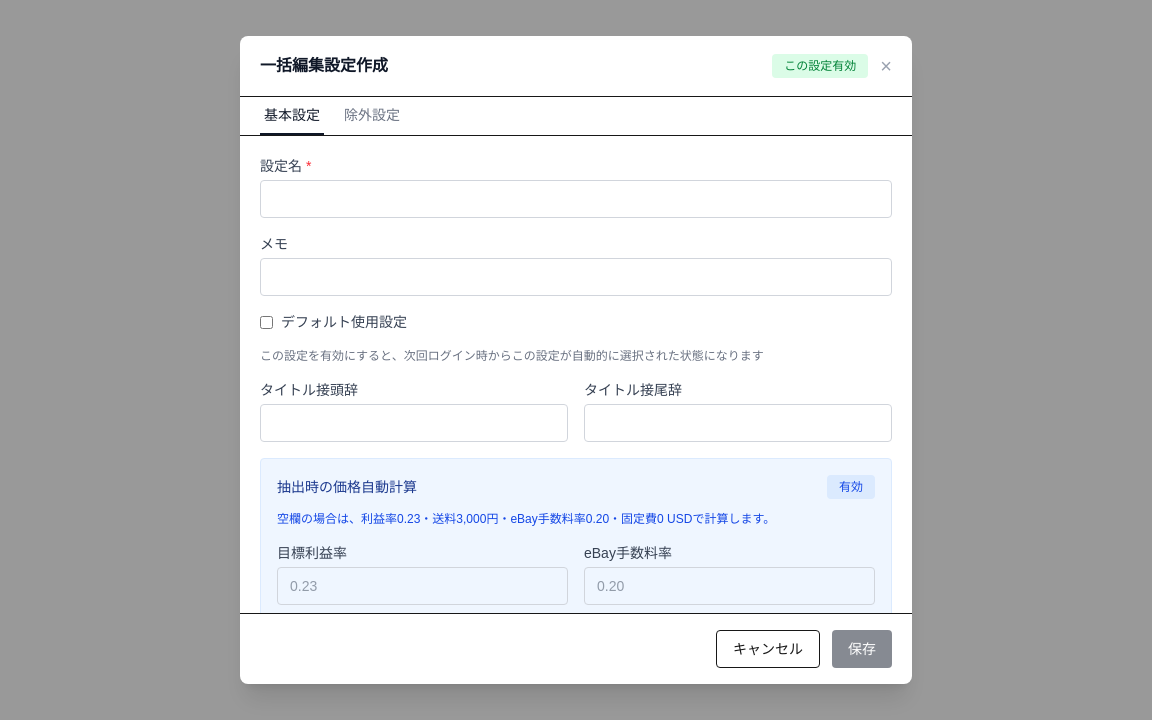
BulkEditSettingModal › 未保存(id無し)の設定では専用リストの代わりに保存を促す案内を表示する
The width and height of the screenshot is (1152, 720).
What coordinates should you click on to do the following:
click the button "除外設定"
I would click on:
 (372, 116)
Its box is [340, 97, 404, 135].
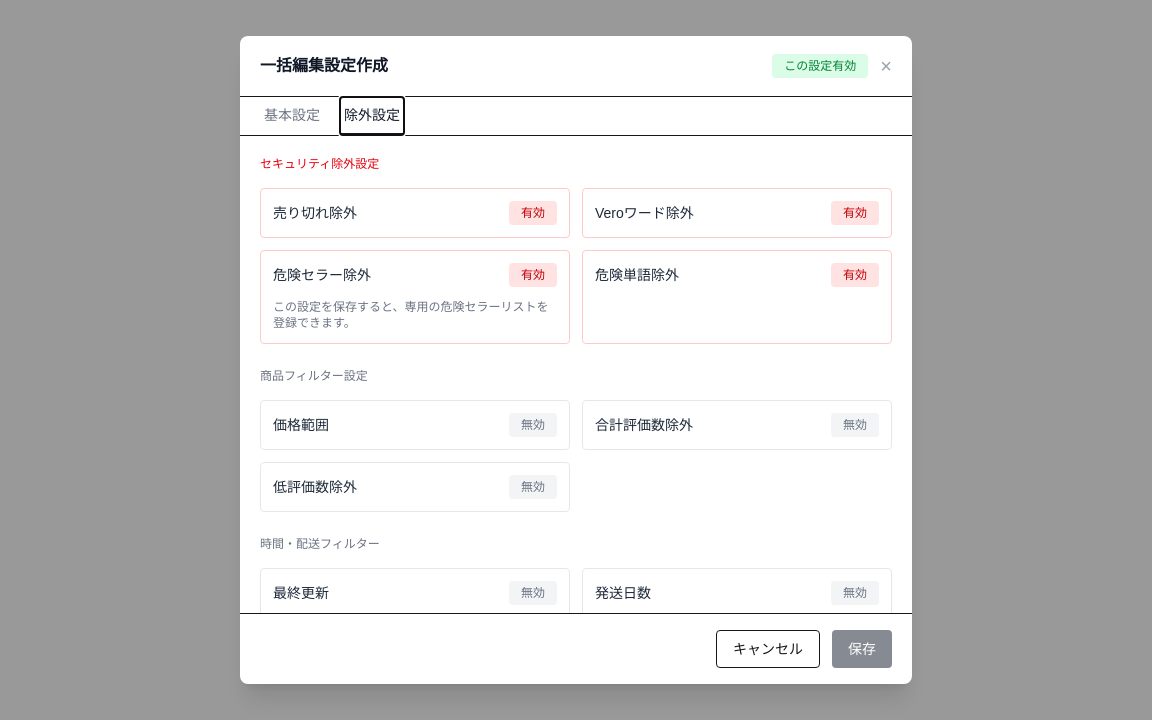
Expected: the text "この設定を保存すると、専用の危険セラーリストを登録できます。" is shown, [273, 299, 557, 331]
